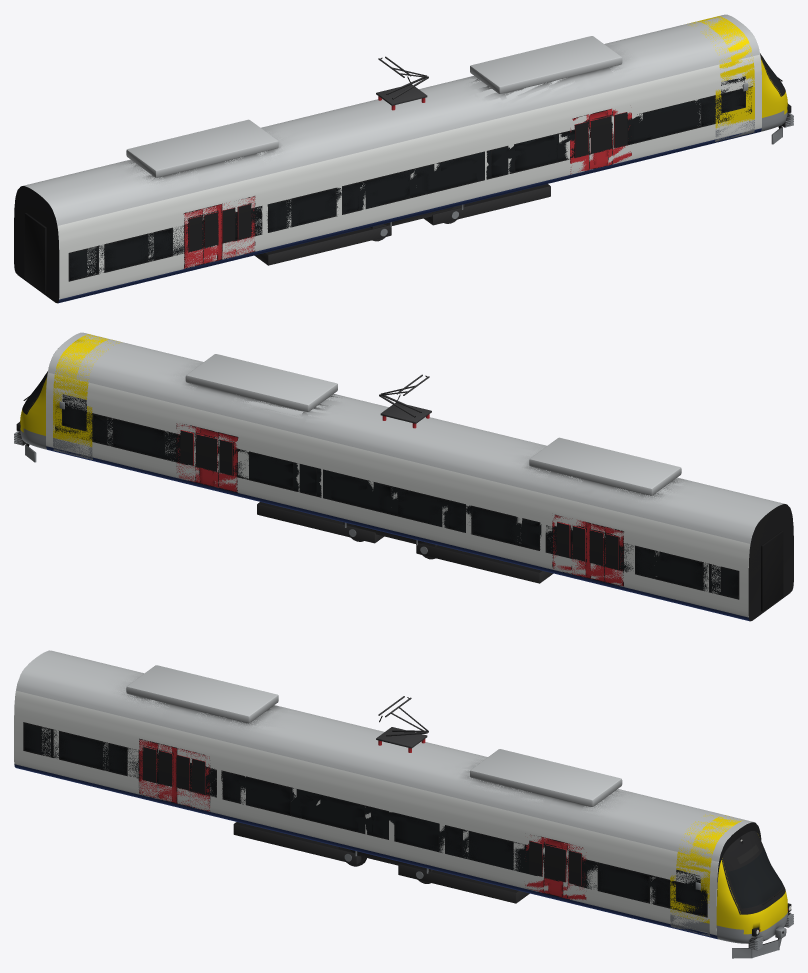
3 renders of one model, top to bottom at view 1: azimuth 30°, elevation 25°; view 2: azimuth 150°, elevation 25°; view 3: azimuth 330°, elevation 25°, orthographic.
Parts seen in each view (by area): view 1: EndCar, MidCar, EndCar_far, MidCar_far, Panto; view 2: EndCar, MidCar, EndCar_far, MidCar_far, Panto; view 3: EndCar, MidCar, EndCar_far, MidCar_far, Panto.
Boxes of the visible parts, box(x1,y1,x2,y2) form: EndCar: box(14, 16, 793, 303); MidCar: box(55, 14, 761, 294); EndCar_far: box(14, 18, 793, 303); MidCar_far: box(63, 17, 752, 288); Panto: box(376, 56, 428, 110); EndCar: box(14, 334, 793, 621); MidCar: box(46, 332, 754, 611); EndCar_far: box(14, 337, 793, 621); MidCar_far: box(55, 335, 744, 606); Panto: box(379, 374, 431, 428); EndCar: box(14, 650, 793, 958); MidCar: box(41, 657, 761, 939); EndCar_far: box(14, 651, 793, 957); MidCar_far: box(51, 660, 741, 936); Panto: box(376, 696, 428, 752).
Bounding box in the file's own units: 27.3 × 5.51 × 3.04.
